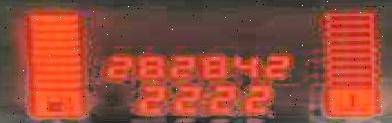2: (133, 83, 167, 113), (240, 82, 269, 114), (207, 82, 236, 113), (169, 83, 198, 114), (260, 53, 289, 78), (102, 54, 131, 78), (167, 54, 196, 77)
4: (229, 53, 258, 77)
8: (198, 53, 227, 78), (133, 54, 162, 78)
X: (198, 91, 204, 106)
